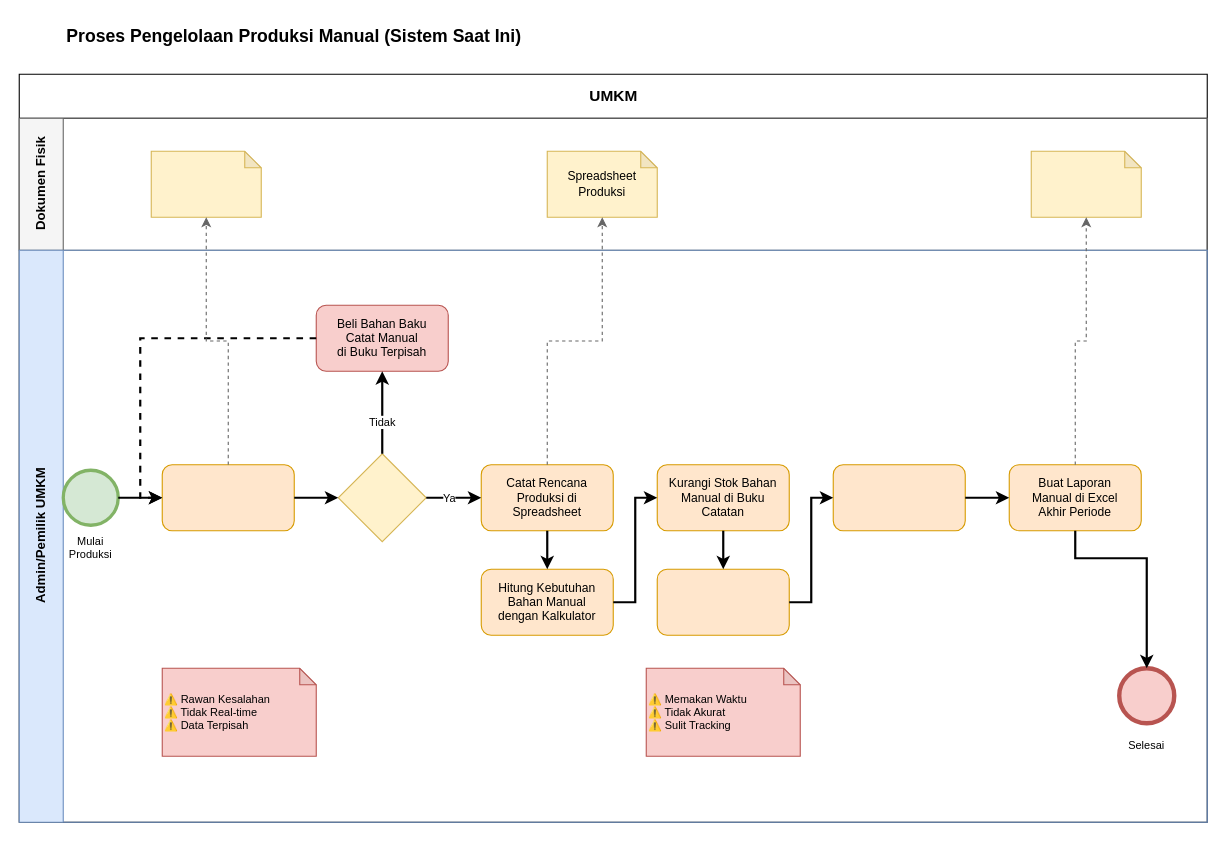
The diagram is 1227 pixels wide and 842 high, and some of its shapes have lost their labels. Each missing label, with the centre of its shape:
"Buku Catatan Laporan Manual" belongs at point 1085,183.
"Buku Catatan Stok Bahan Baku" belongs at point 205,183.
"Cek Stok Bahan Baku Secara Manual di Buku Catatan" belongs at point 227,497.
"Hitung HPP Manual dengan Perkiraan" belongs at point 722,601.
"Stok Cukup?" belongs at point 381,497.
"Tambah Stok Produk Jadi di Buku Lain" belongs at point 898,497.
